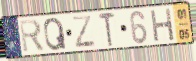6: (128, 9, 149, 46)
H: (149, 7, 176, 44)
Q: (42, 16, 69, 52)
R: (18, 18, 46, 55)
T: (97, 12, 117, 48)
Z: (71, 14, 97, 49)
